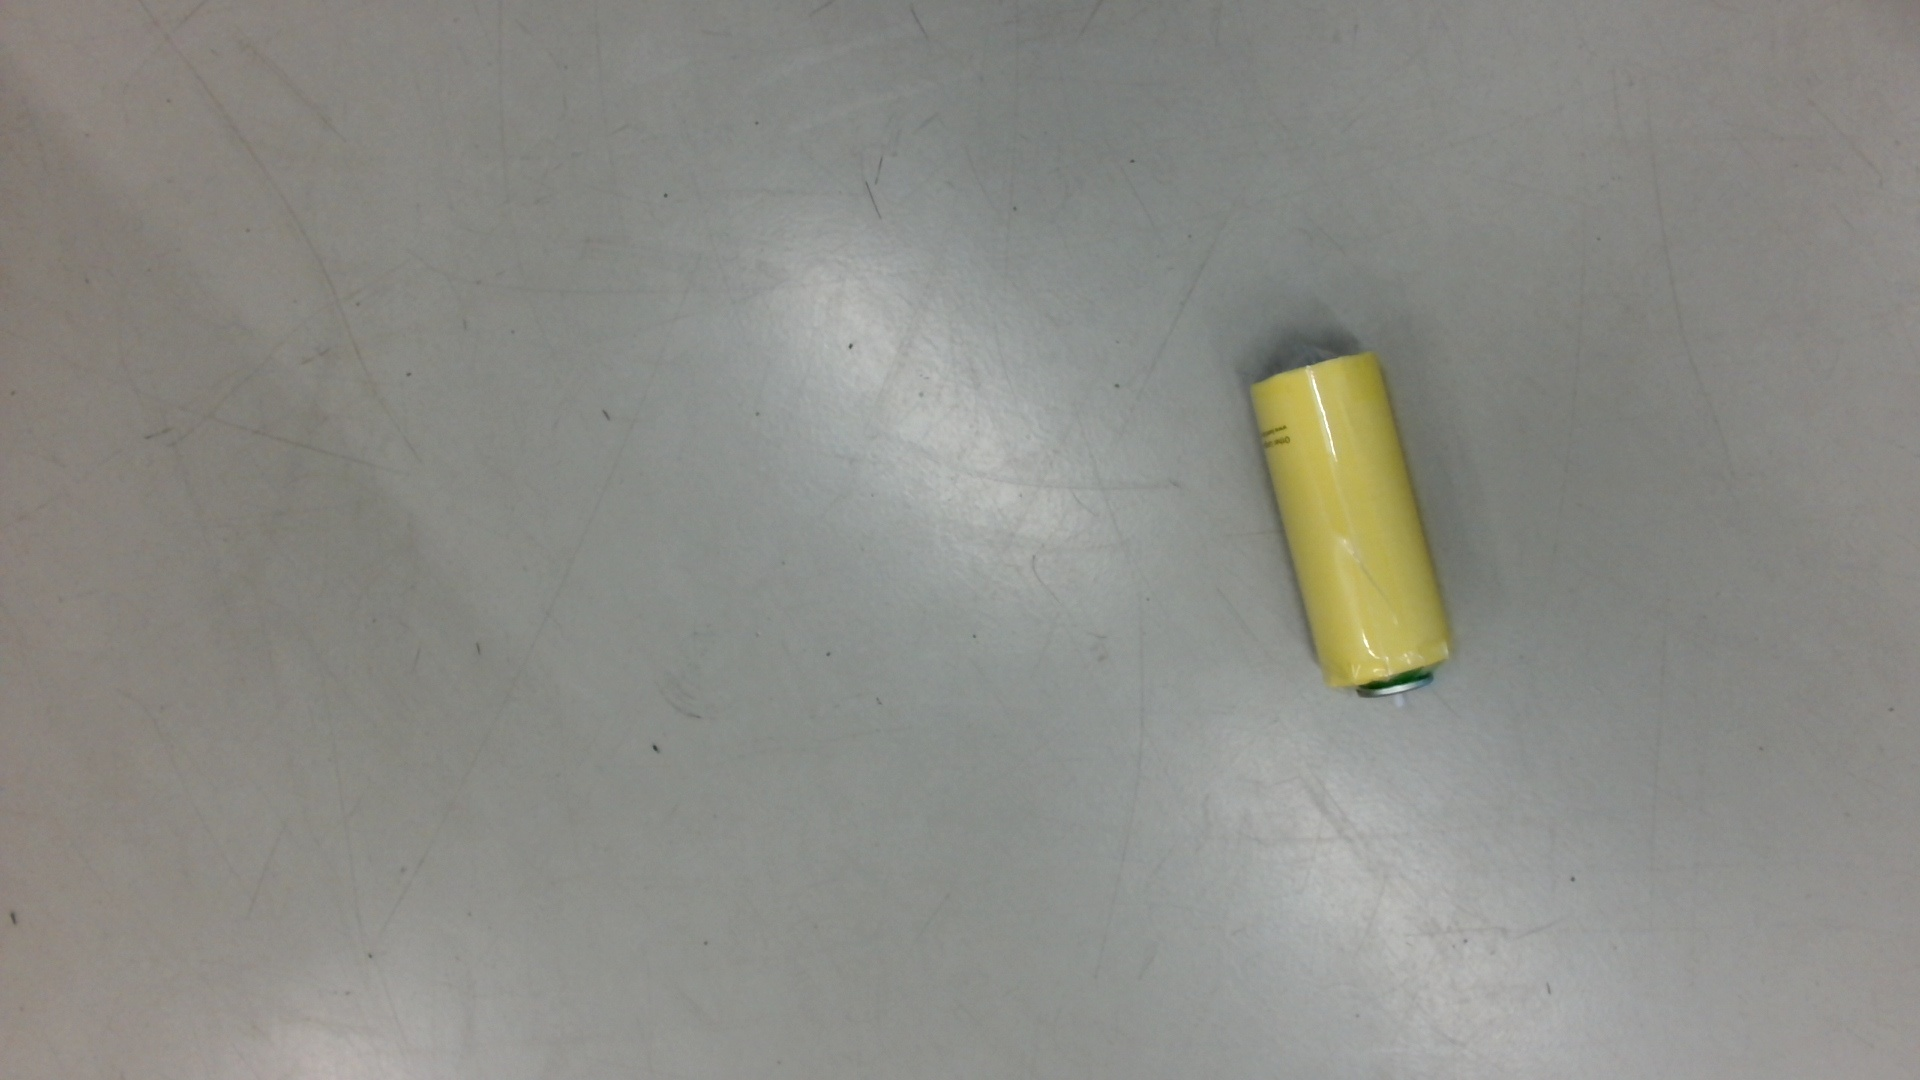Cylinder: (1244, 342, 1476, 715)
